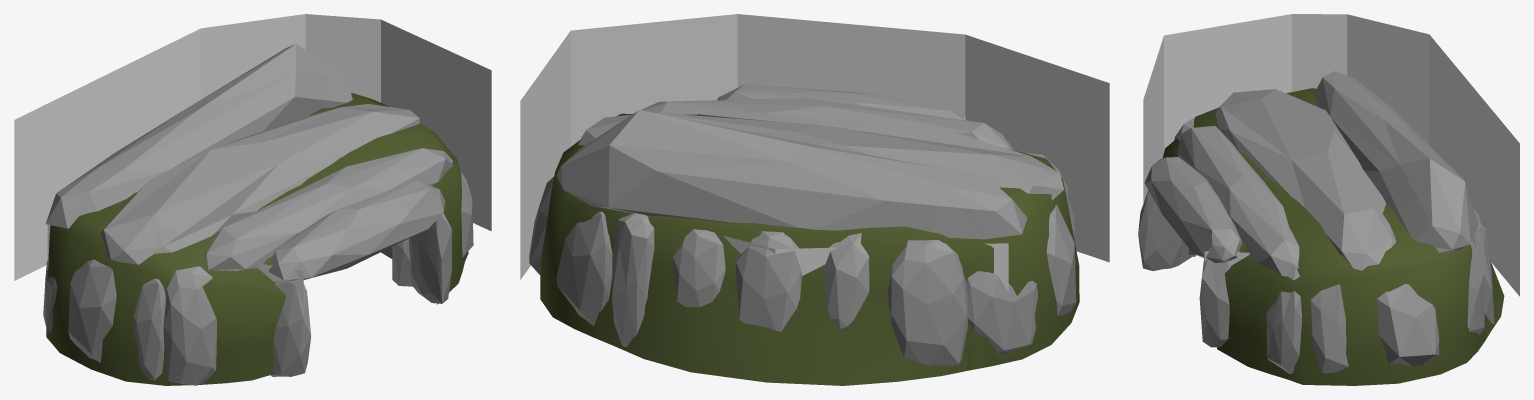
Rendered from Dolmen2.gltf.
The picture shows the model from 3 angles, left to right: view 1: azimuth 30°, elevation 25°; view 2: azimuth 150°, elevation 25°; view 3: azimuth 270°, elevation 25°; orthographic projection. The views are drawn at different scales.
Visible parts, largest first — view 1: dolm2, Box.002, Dolm plane; view 2: dolm2, Box.002, Dolm plane; view 3: dolm2, Box.002, Dolm plane.
Boxes of the visible parts, x1,y1,x2,y2 form: dolm2: [43, 44, 473, 385]; Box.002: [14, 14, 491, 305]; Dolm plane: [46, 93, 468, 385]; dolm2: [529, 84, 1076, 365]; Box.002: [520, 14, 1109, 292]; Dolm plane: [540, 113, 1079, 385]; dolm2: [1138, 71, 1494, 373]; Box.002: [1143, 14, 1519, 296]; Dolm plane: [1163, 88, 1504, 385].
Size of the model in its own units: 14.25 by 5.82 by 10.9.
Materials: 22 (22 with a texture image).
